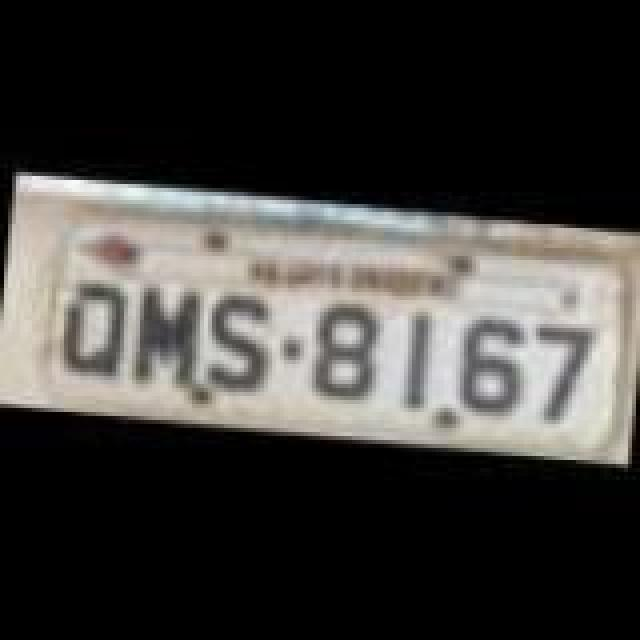1: (396, 304, 436, 416)
6: (452, 310, 532, 418)
7: (526, 320, 594, 424)
8: (310, 302, 386, 398)
M: (132, 280, 204, 388)
Q: (54, 280, 130, 384)
S: (204, 288, 276, 392)
